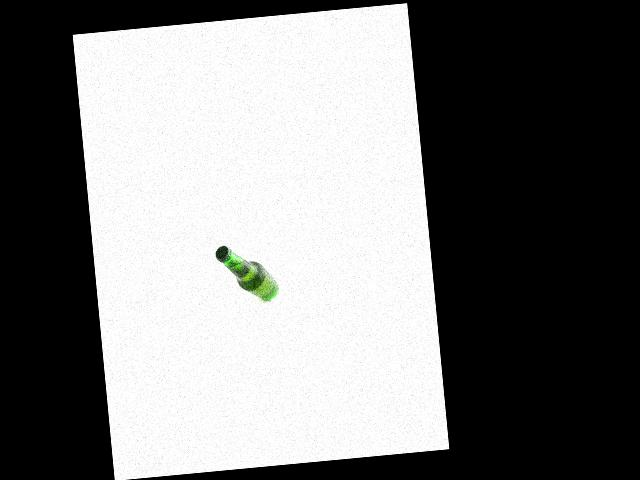beer: (214, 241, 279, 305)
